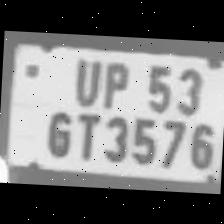3: (170, 60, 204, 116), (97, 109, 128, 163)
5: (138, 60, 175, 113), (126, 110, 160, 167)
6: (182, 116, 216, 171)
7: (154, 112, 186, 170)
G: (39, 104, 73, 158)
P: (96, 56, 133, 110)
T: (71, 108, 101, 162)
U: (66, 52, 101, 104)
